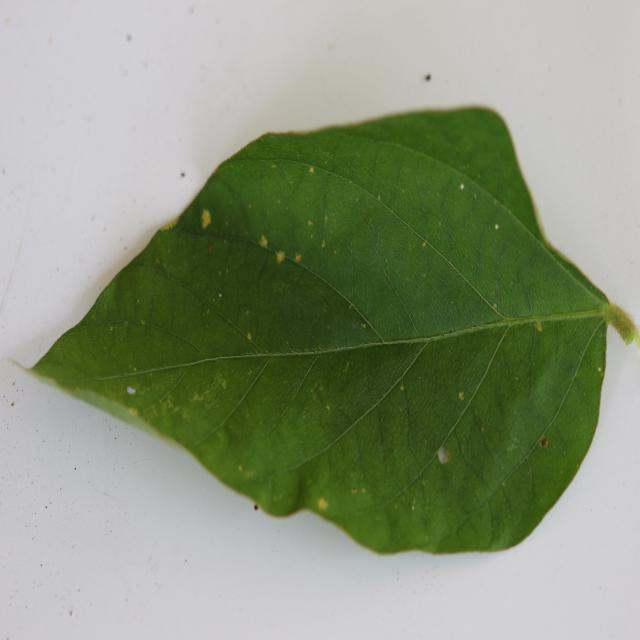Soybean: (29, 106, 638, 558)
downey_mildew: (196, 186, 368, 359), (171, 228, 269, 331), (263, 186, 340, 282), (248, 227, 325, 289), (170, 359, 239, 424), (396, 480, 425, 518), (153, 389, 182, 419), (301, 210, 324, 243), (347, 483, 368, 497)
